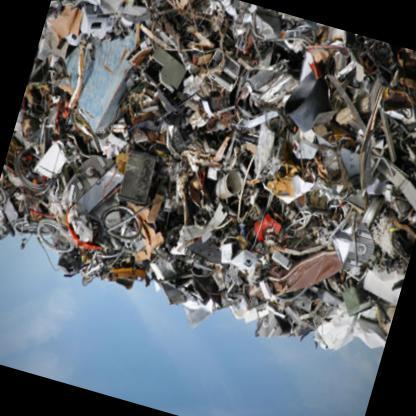Garbage: (0, 0, 415, 337), (61, 0, 415, 268), (190, 52, 415, 347), (14, 69, 218, 270)
